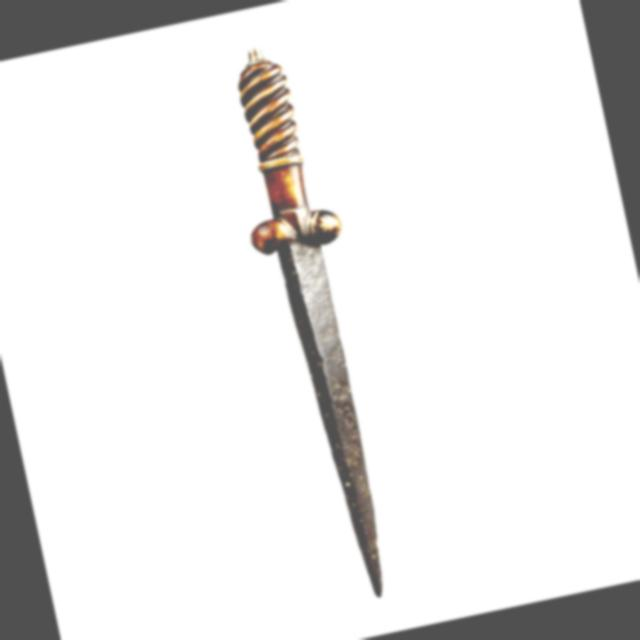short sword: (180, 19, 442, 618)
